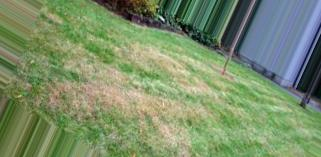patch: (48, 71, 195, 118), (143, 50, 178, 69)
